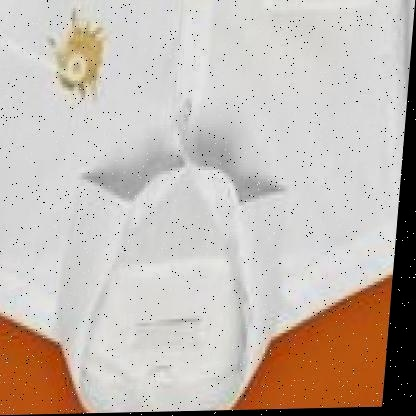coffee: (57, 29, 103, 90)
